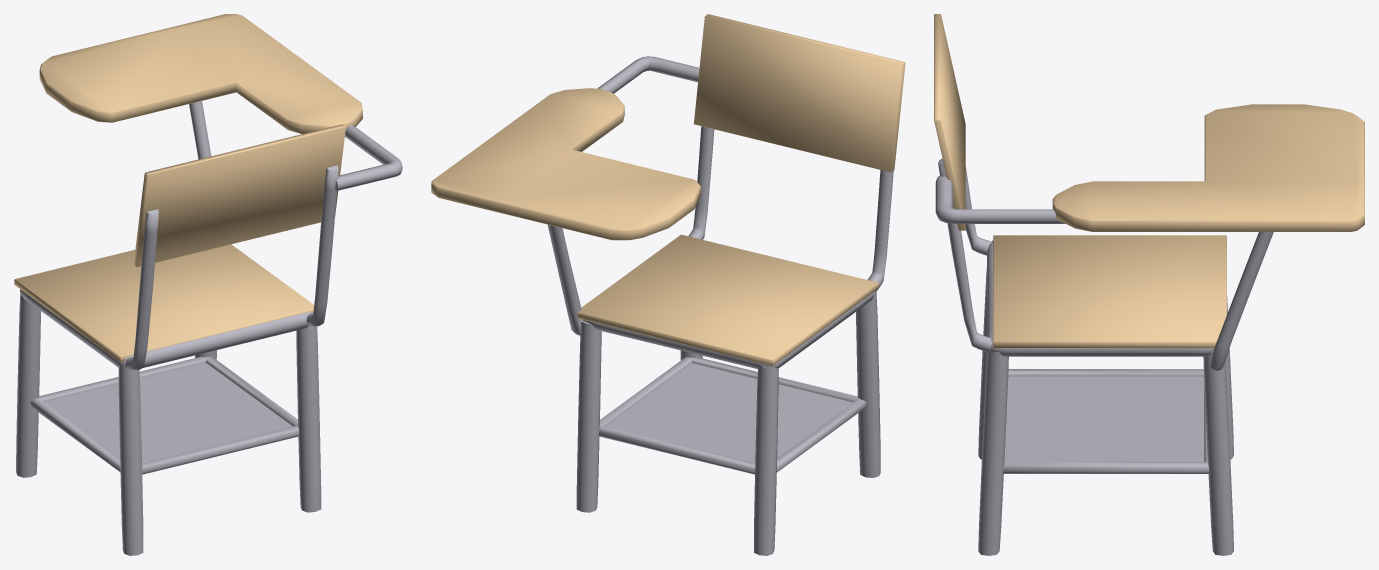
File: pupitre_escolar.glb
The picture shows the model from 3 angles, left to right: view 1: azimuth 30°, elevation 25°; view 2: azimuth 150°, elevation 25°; view 3: azimuth 270°, elevation 25°; orthographic projection. The views are drawn at different scales.
Visible parts, largest first — view 1: Pupitre, Cubo, Cubo_3, Cubo_1, Cubo_2; view 2: Pupitre, Cubo_1, Cubo, Cubo_3, Cubo_2; view 3: Pupitre, Cubo, Cubo_3, Cubo_2, Cubo_1.
Boxes of the visible parts, x1=… form: Pupitre: x1=16, y1=165, x2=338, y2=555; Cubo: x1=39, y1=14, x2=362, y2=133; Cubo_3: x1=14, y1=244, x2=313, y2=362; Cubo_1: x1=133, y1=124, x2=345, y2=267; Cubo_2: x1=189, y1=101, x2=402, y2=190; Pupitre: x1=576, y1=103, x2=893, y2=555; Cubo_1: x1=693, y1=14, x2=905, y2=172; Cubo: x1=431, y1=88, x2=700, y2=240; Cubo_3: x1=577, y1=234, x2=878, y2=365; Cubo_2: x1=547, y1=56, x2=699, y2=335; Pupitre: x1=938, y1=158, x2=1233, y2=555; Cubo: x1=1052, y1=104, x2=1364, y2=231; Cubo_3: x1=993, y1=235, x2=1226, y2=348; Cubo_2: x1=935, y1=176, x2=1273, y2=371; Cubo_1: x1=934, y1=14, x2=965, y2=230.
Bounding box in the file's own units: 2.89 × 3.84 × 3.43.
